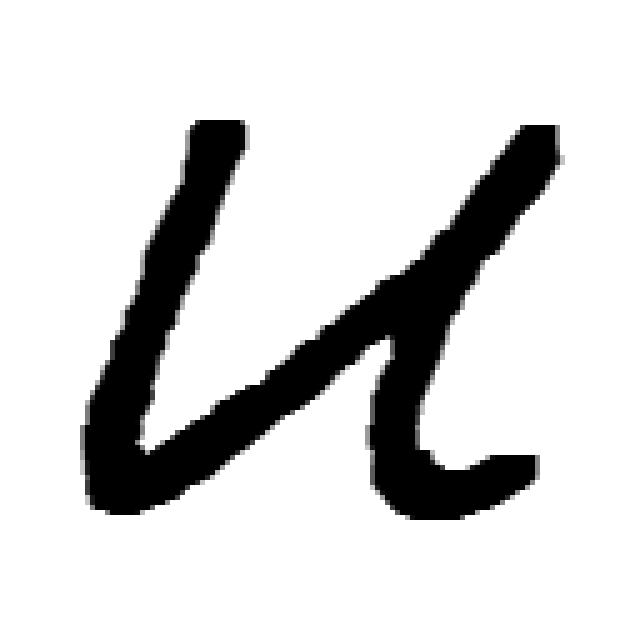U: (75, 110, 565, 525)
